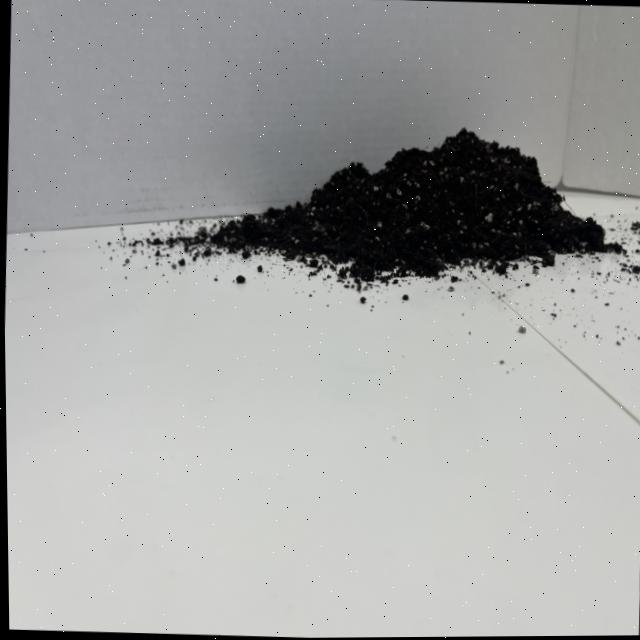soil: (186, 73, 640, 312)
